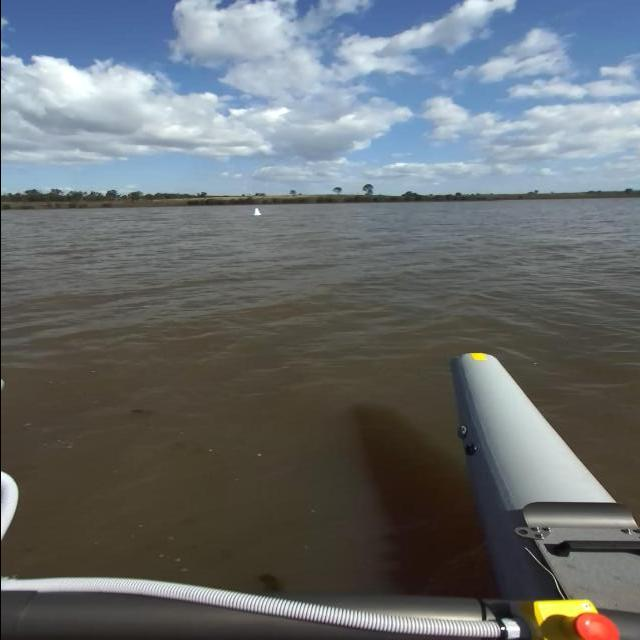White_Buoy: (246, 204, 272, 234)
